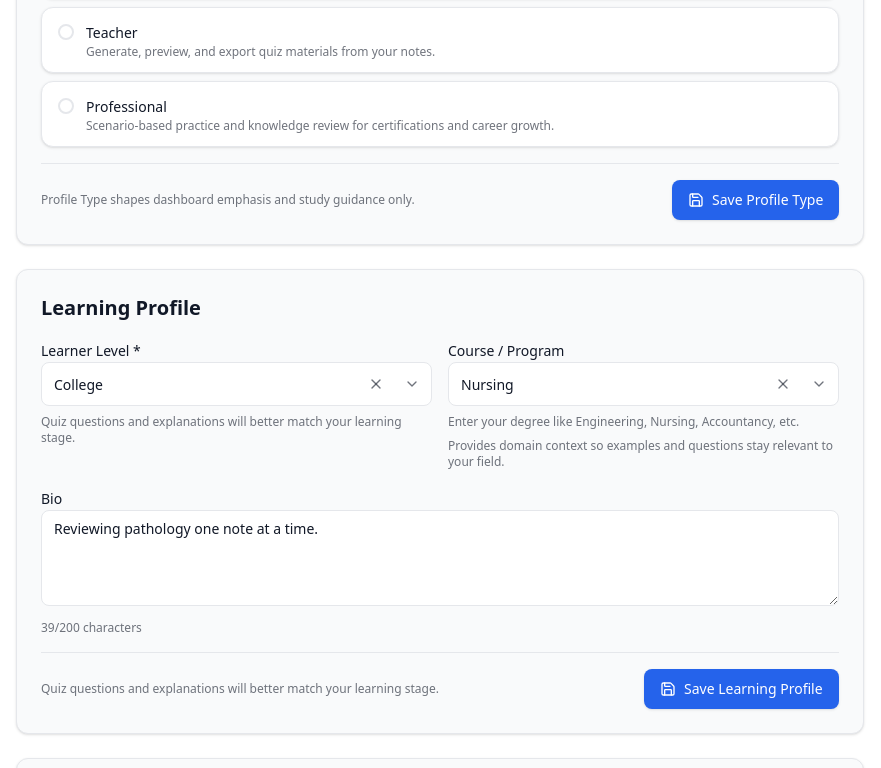
Profile page › updates the course/program helper text when learner level changes
This screenshot has width=881, height=768.
(page scrolled)
Expected: the text "Enter your degree like Engineering, Nursing, Accountancy, etc." is shown, [448, 414, 839, 430]
Replace the text in the field labelled "Learner Level" with "PROFESSIONAL" at (236, 384), box [41, 362, 432, 406]
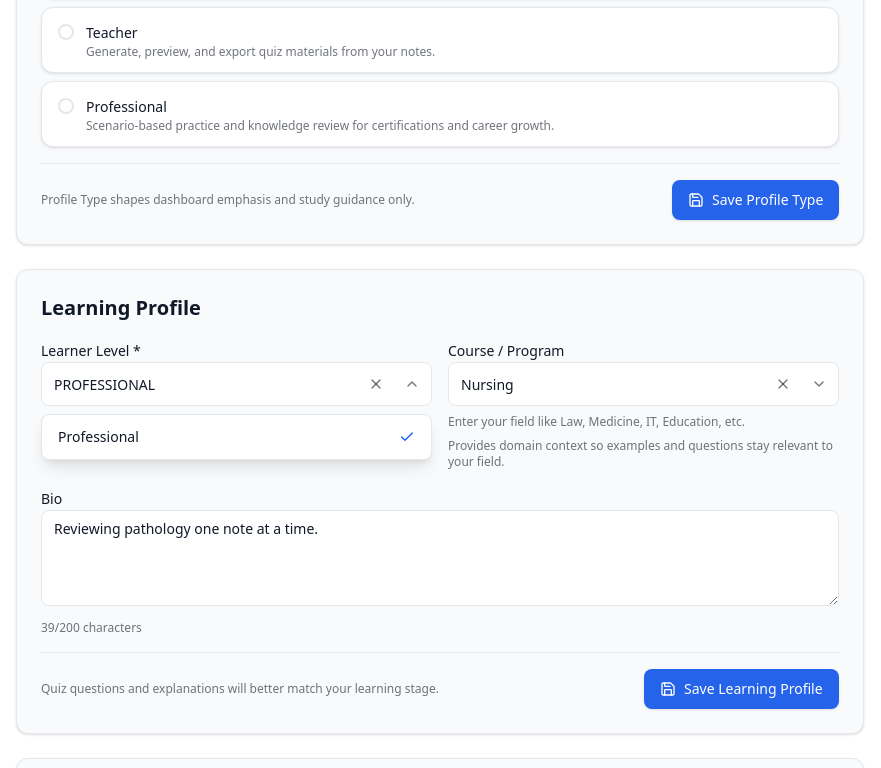
Expected: the text "Enter your field like Law, Medicine, IT, Education, etc." is shown, [448, 413, 745, 430]
